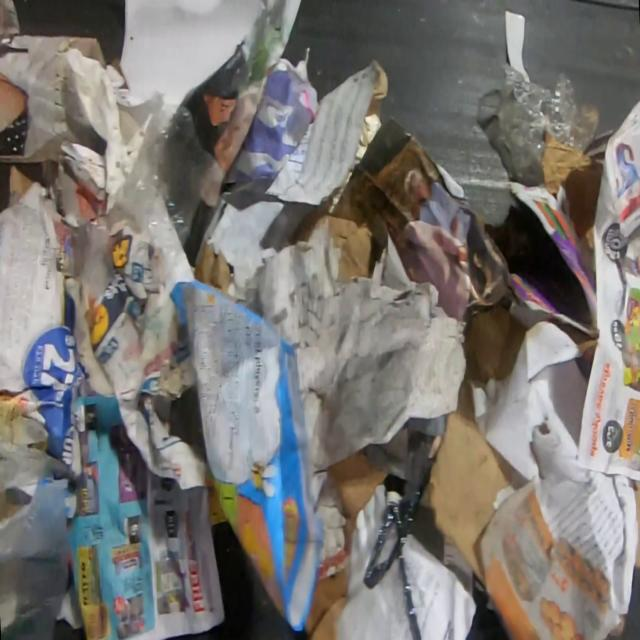cardboard: (168, 276, 327, 632), (419, 304, 530, 586), (305, 450, 388, 639), (504, 181, 598, 338), (288, 184, 372, 285), (538, 135, 604, 250), (9, 161, 42, 205), (627, 475, 640, 566)
rigid_plastic: (362, 486, 428, 640)
soft_plastic: (118, 90, 224, 277), (0, 438, 78, 640), (496, 61, 600, 187), (74, 220, 115, 296)
